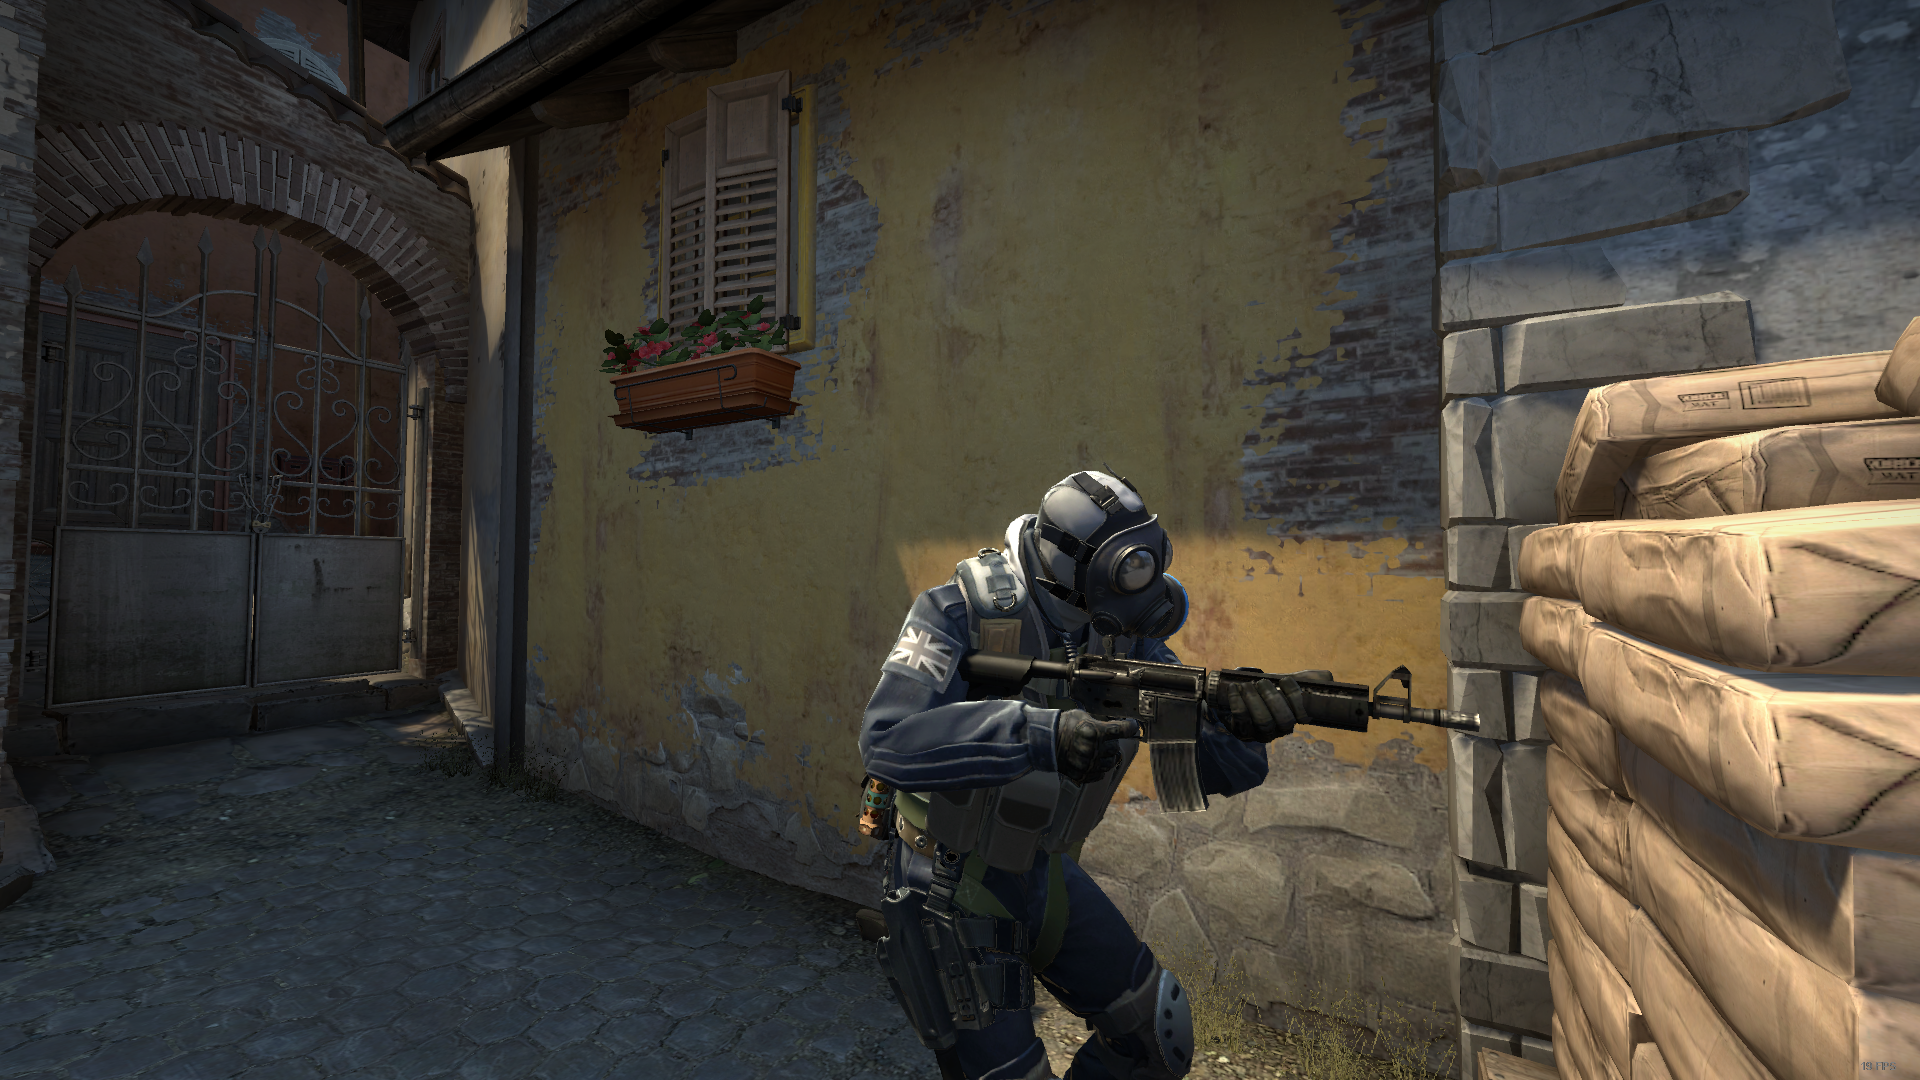ct: (855, 468, 1305, 1080)
